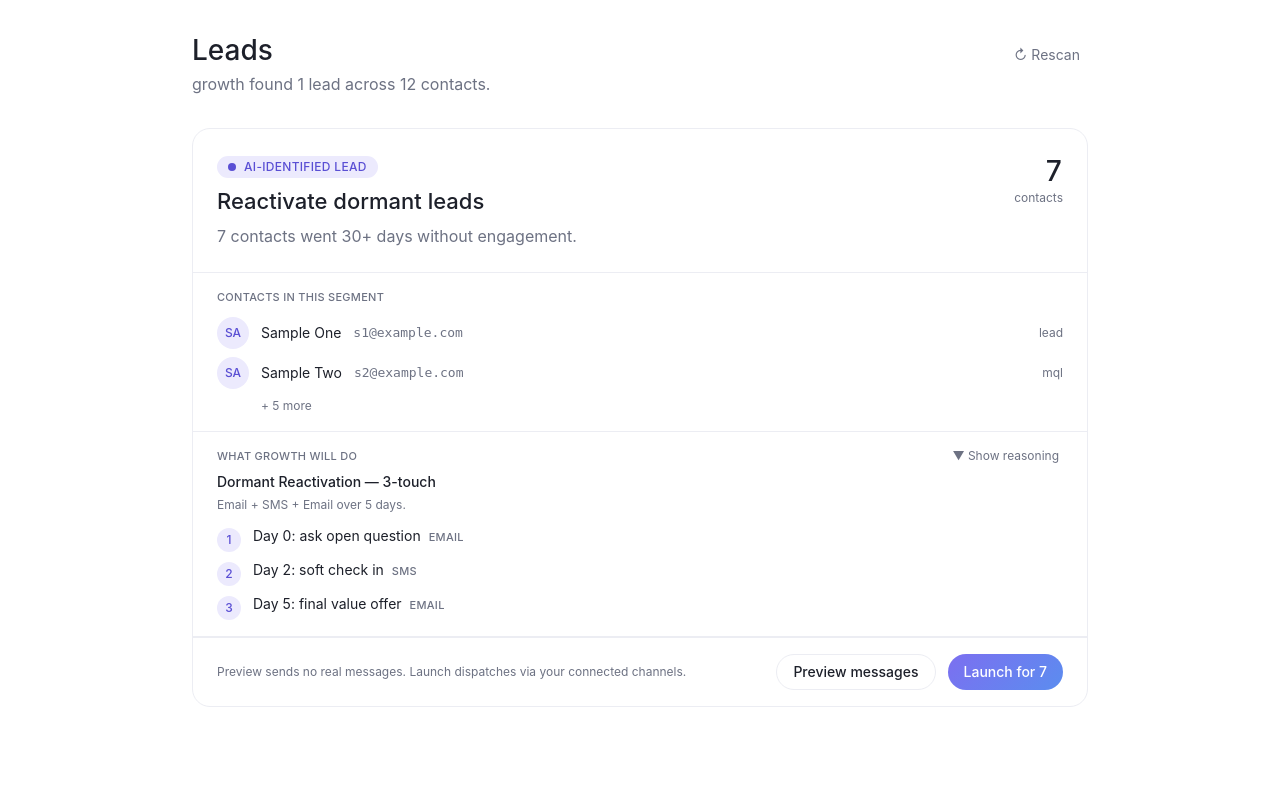
Test: KAN-886 — AiSegmentsView regression snapshots › Sub-state 3: launched — success banner appears after launch
Expected: the heading "Reactivate dormant leads" is shown, [217,188,484,214]
Note: Click "Launch for 7" — triggers the wedge.launch mutation
Click the button "Launch for 7". click: (1005, 672)
box: [948,654,1063,690]
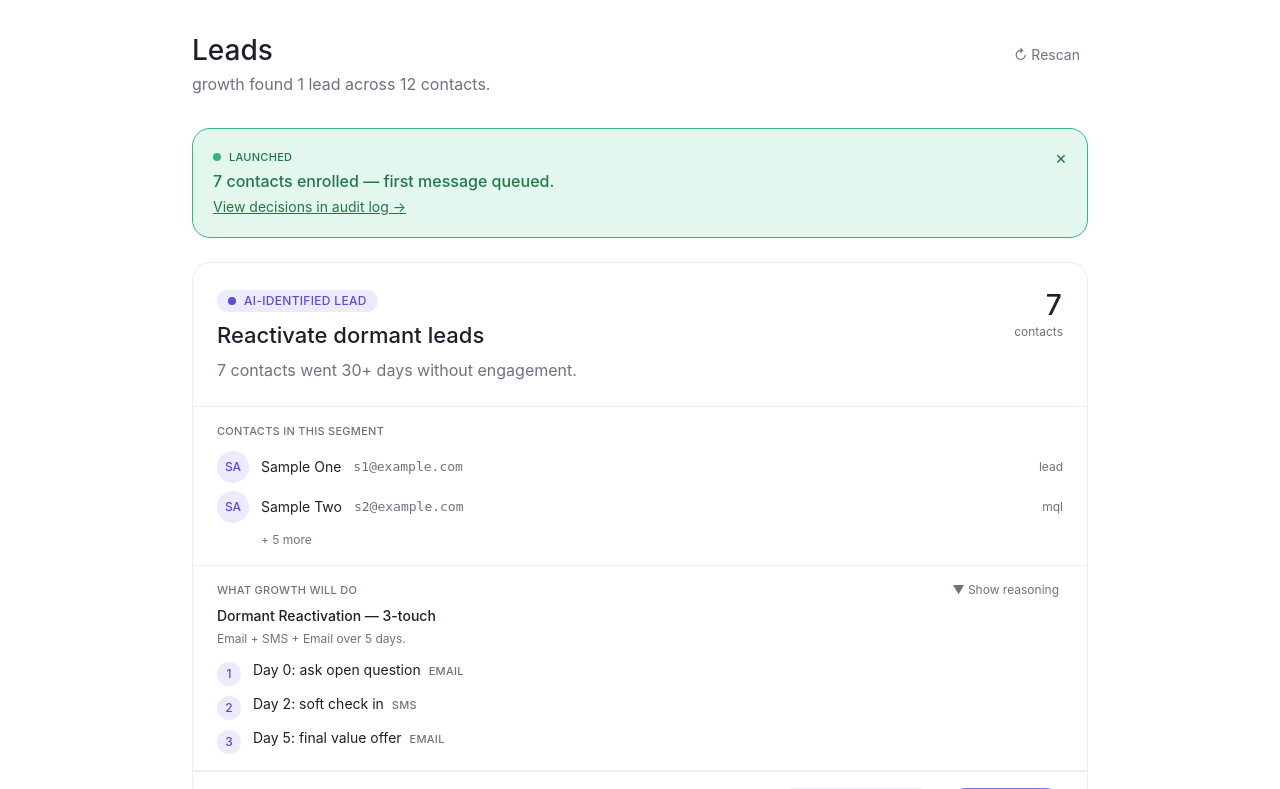
Result: the text "Launched" is shown at [229,149,292,165]
Result: the text "7 contacts enrolled — first message queued." is shown at [213,169,554,193]
